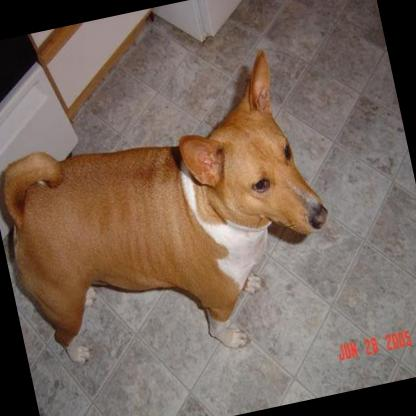basenji: (0, 35, 351, 392)
